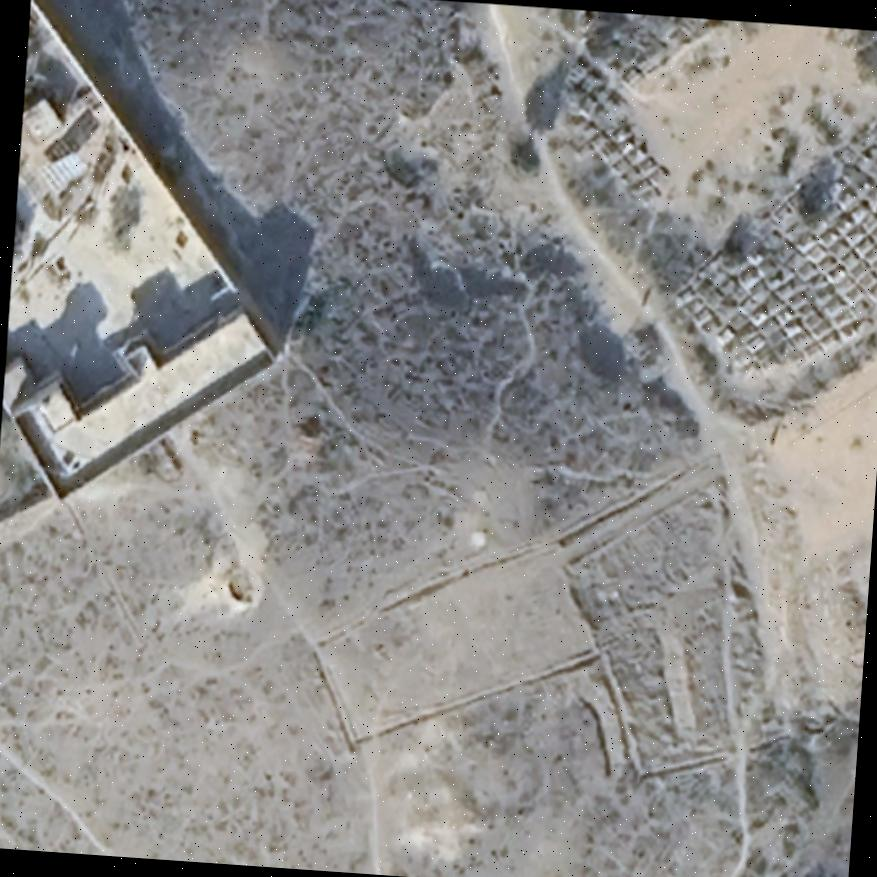Solarpanel: (37, 148, 88, 195)
